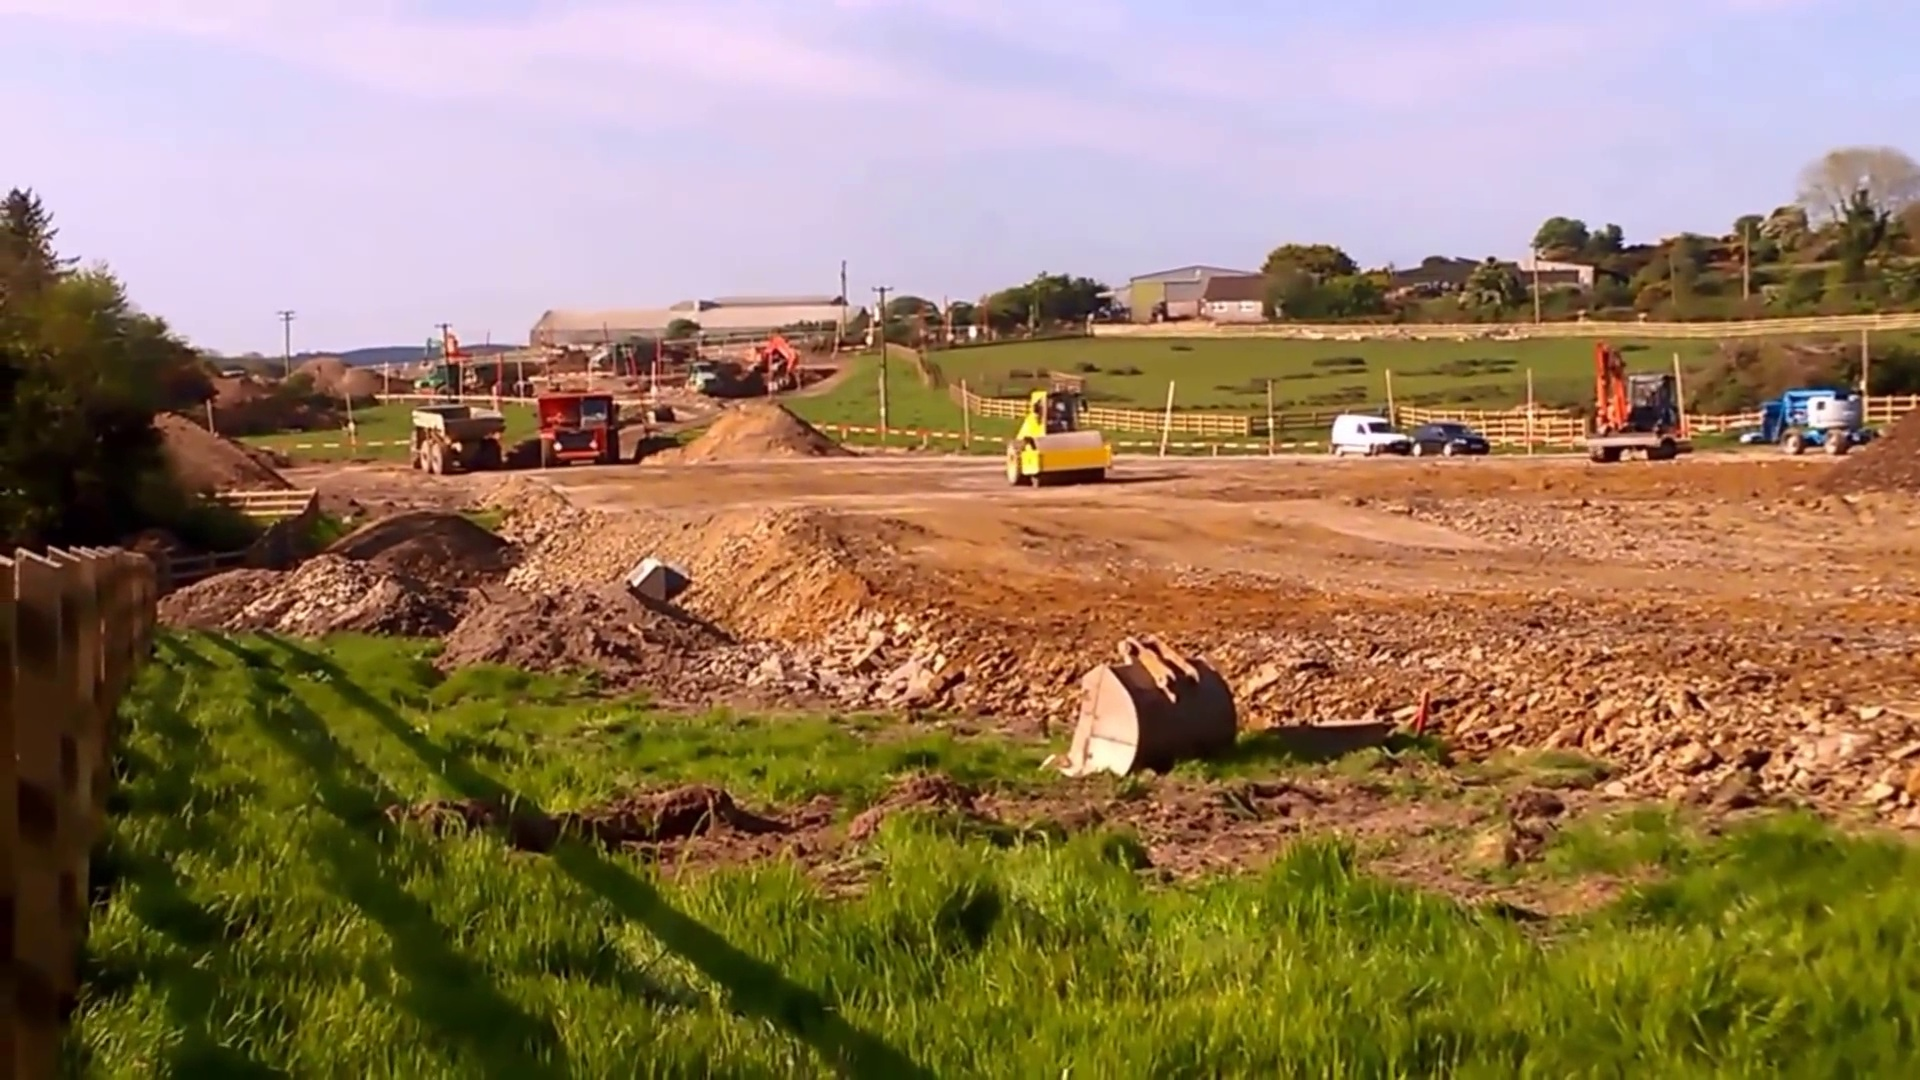car: (1333, 405, 1408, 460), (1414, 423, 1485, 456)
dumper: (405, 405, 506, 472)
excavator: (1588, 340, 1689, 467), (694, 336, 802, 396)
